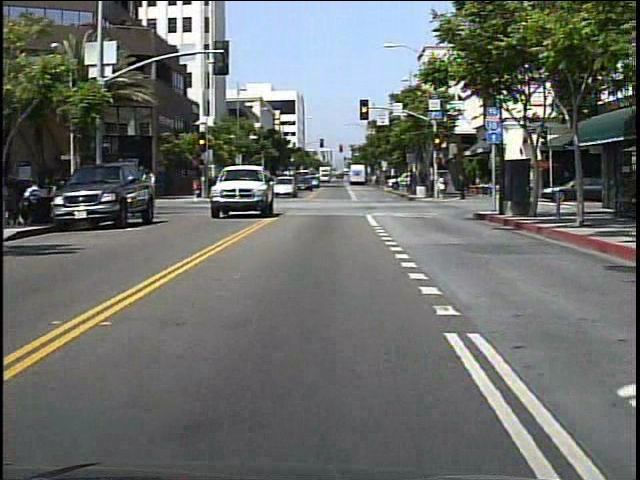person: (140, 166, 161, 205), (455, 172, 470, 204), (193, 174, 205, 199), (437, 175, 447, 199)
